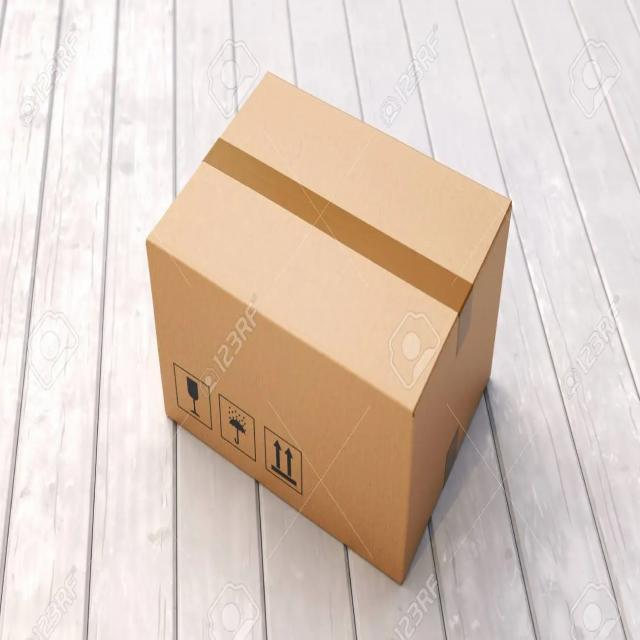-: (142, 64, 521, 591)
